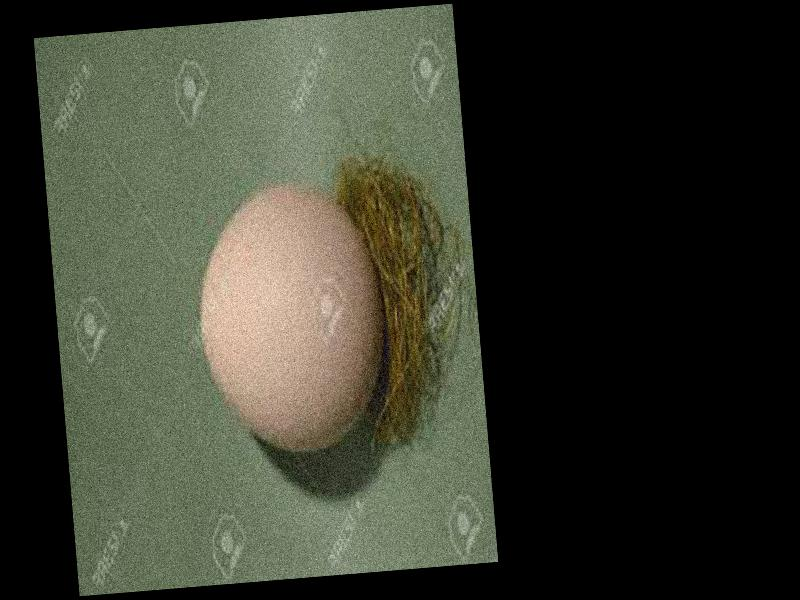Eggs: (188, 179, 390, 459)
